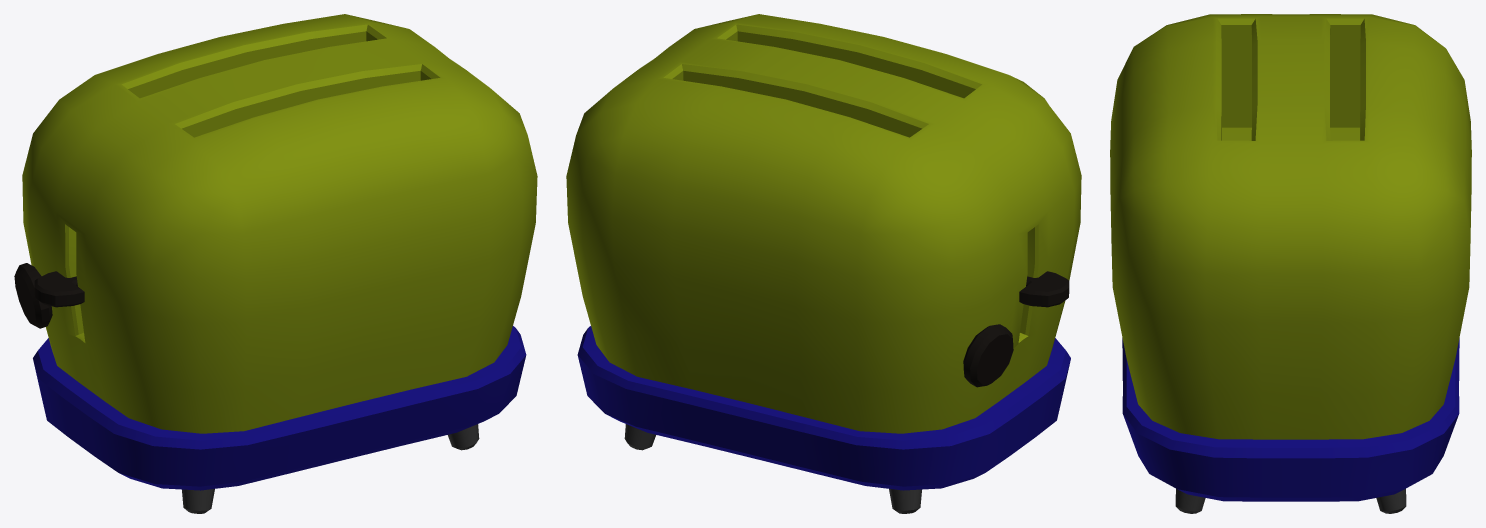
The model's file is Toster.FBX.
3 renders of one model, left to right at view 1: azimuth 30°, elevation 25°; view 2: azimuth 150°, elevation 25°; view 3: azimuth 270°, elevation 25°, orthographic.
Visible parts, largest first — view 1: Toster; view 2: Toster; view 3: Toster.
Part boxes in pixels (left/top/right/bottom): Toster: left=14, top=14, right=537, bottom=513; Toster: left=566, top=14, right=1081, bottom=513; Toster: left=1110, top=14, right=1471, bottom=513.
Bounding box in the file's own units: 992 × 681 × 782.
